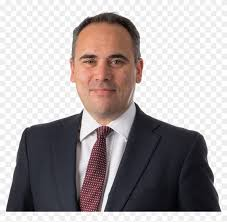middle_eastern_male: (76, 11, 146, 122)
